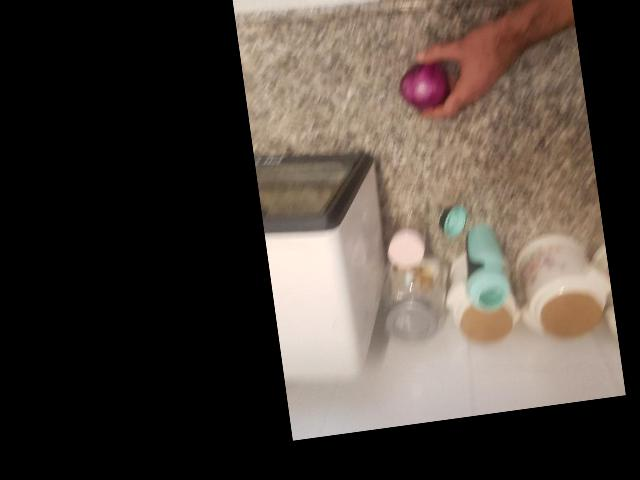onion: (239, 230, 301, 295)
